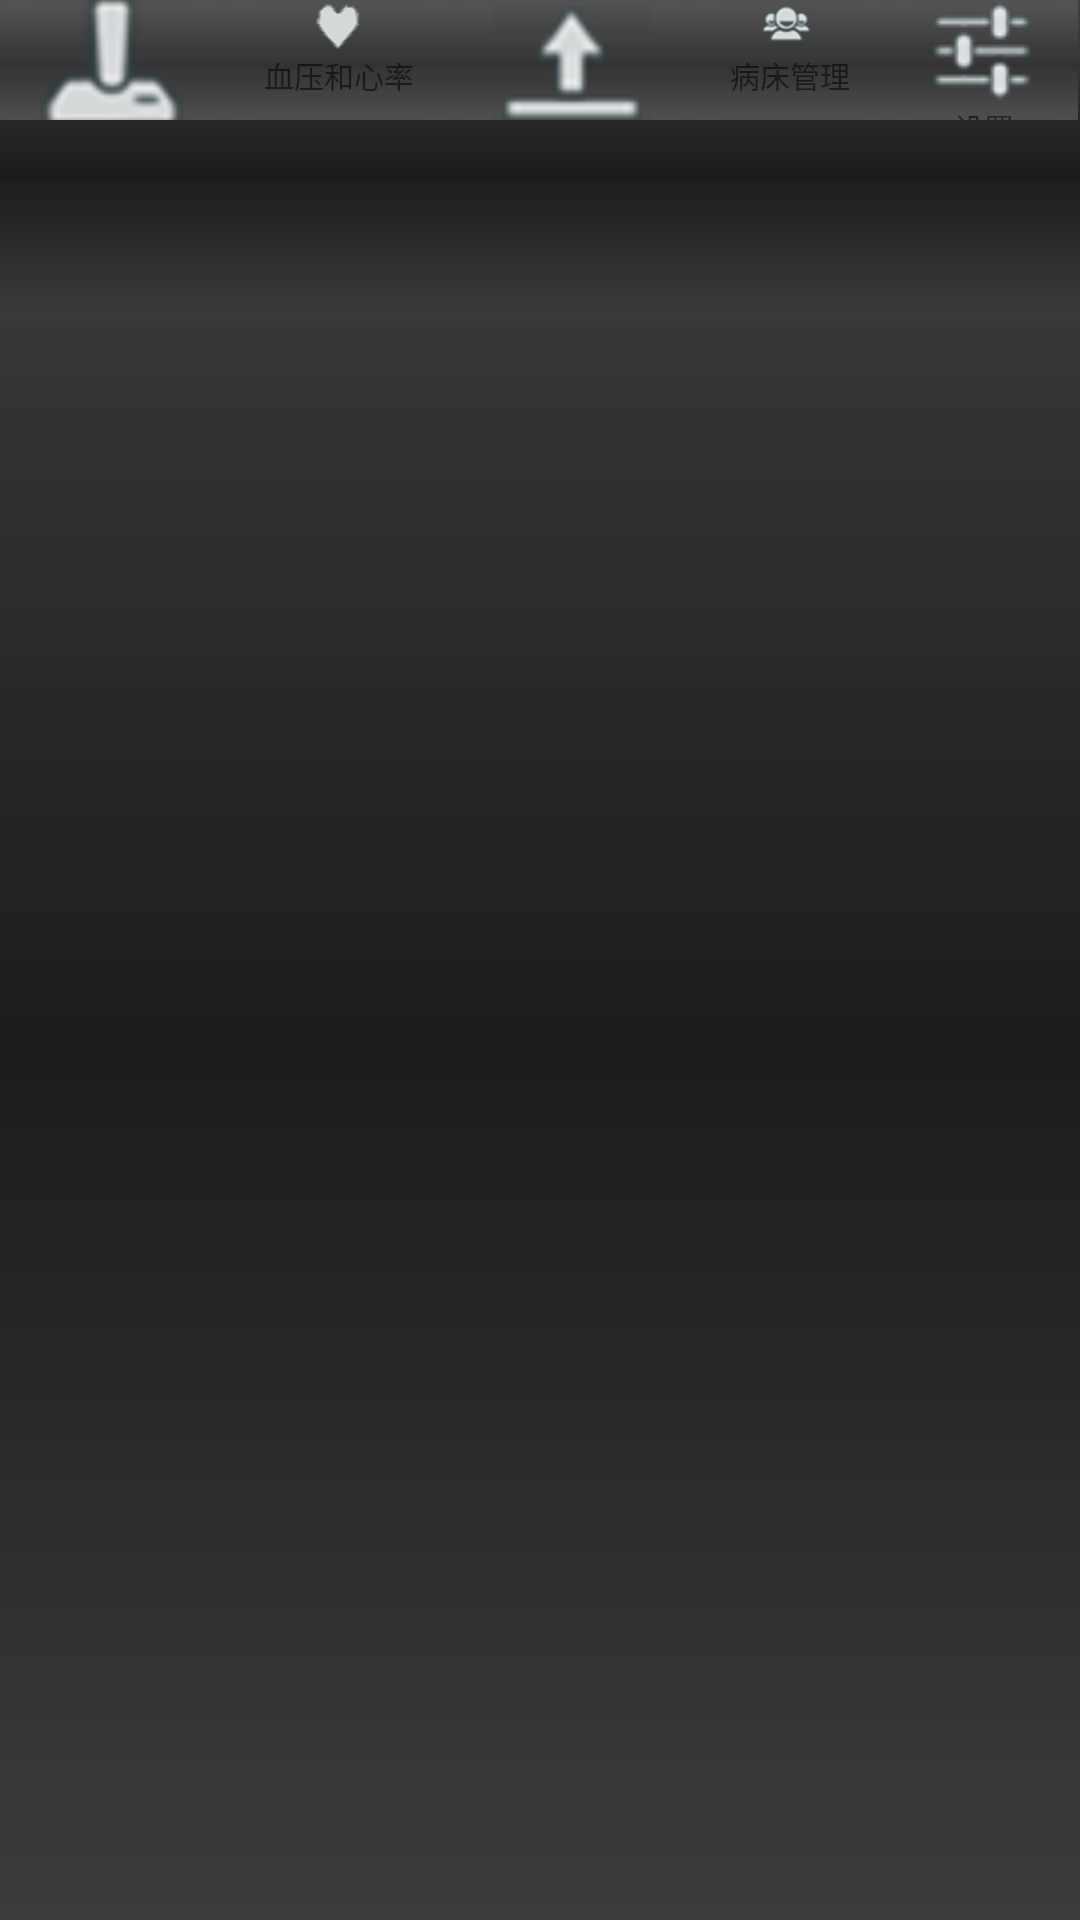

Icon click points for this 1080px×1920px phone screenshot, format (x,y):
upload: (572,60)
